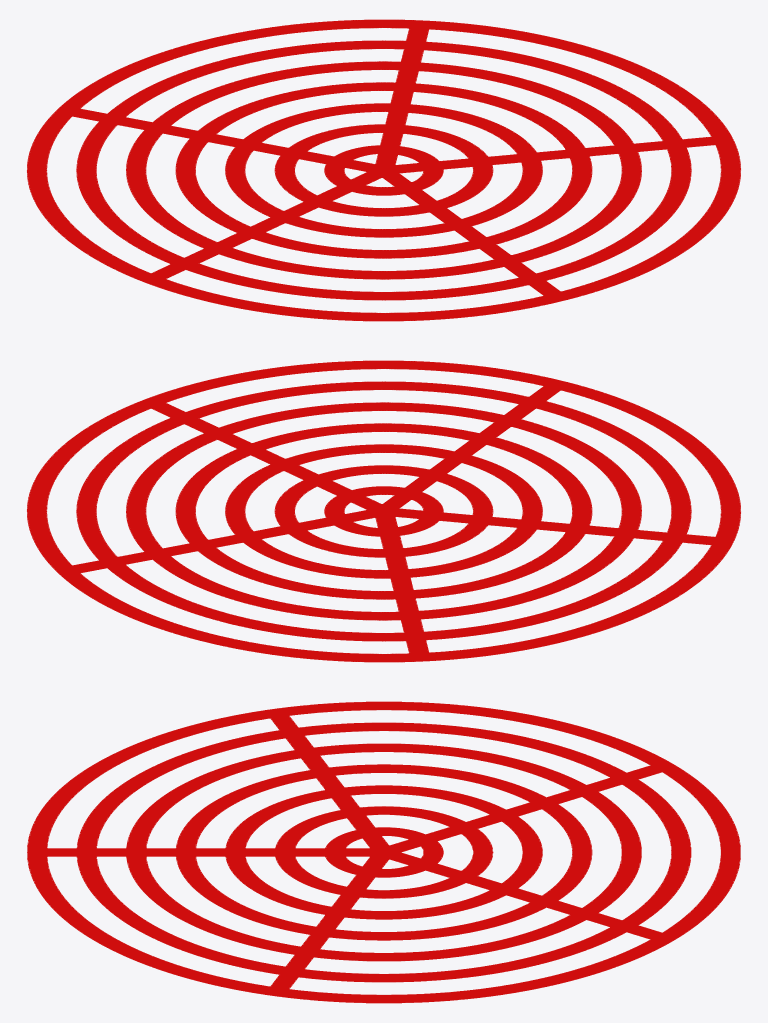
The model's file is hob.fbx.
3 views of the same model, one above another, from view 1: azimuth 30°, elevation 25°; view 2: azimuth 150°, elevation 25°; view 3: azimuth 270°, elevation 25° (orthographic).
Visible parts, largest first — view 1: hob_fire_large; view 2: hob_fire_large; view 3: hob_fire_large.
Part boxes in pixels (x1,y1,x2,y2): hob_fire_large: (27,19,740,321); hob_fire_large: (27,360,740,662); hob_fire_large: (27,701,740,1003).
Size of the model in its own units: 58.72 by 0 by 58.72.
